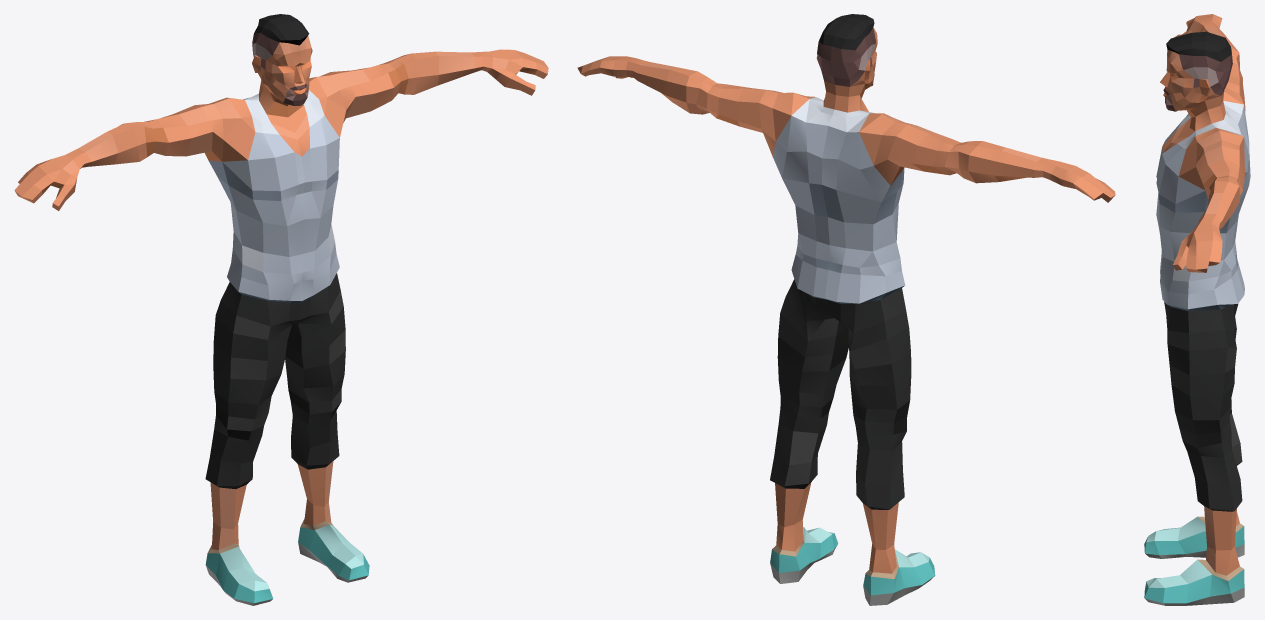
Rendered from casual_Male_I-model.obj.
3 renders of one model, left to right at view 1: azimuth 30°, elevation 25°; view 2: azimuth 150°, elevation 25°; view 3: azimuth 270°, elevation 25°, orthographic. The views are drawn at different scales.
Visible parts, largest first — view 1: casual_Male_I; view 2: casual_Male_I; view 3: casual_Male_I.
Boxes of the visible parts, x1,y1,x2,y2 form: casual_Male_I: [14, 14, 548, 605]; casual_Male_I: [577, 14, 1115, 605]; casual_Male_I: [1144, 14, 1250, 605].
Bounding box in the file's own units: 168 × 168 × 29.98.
